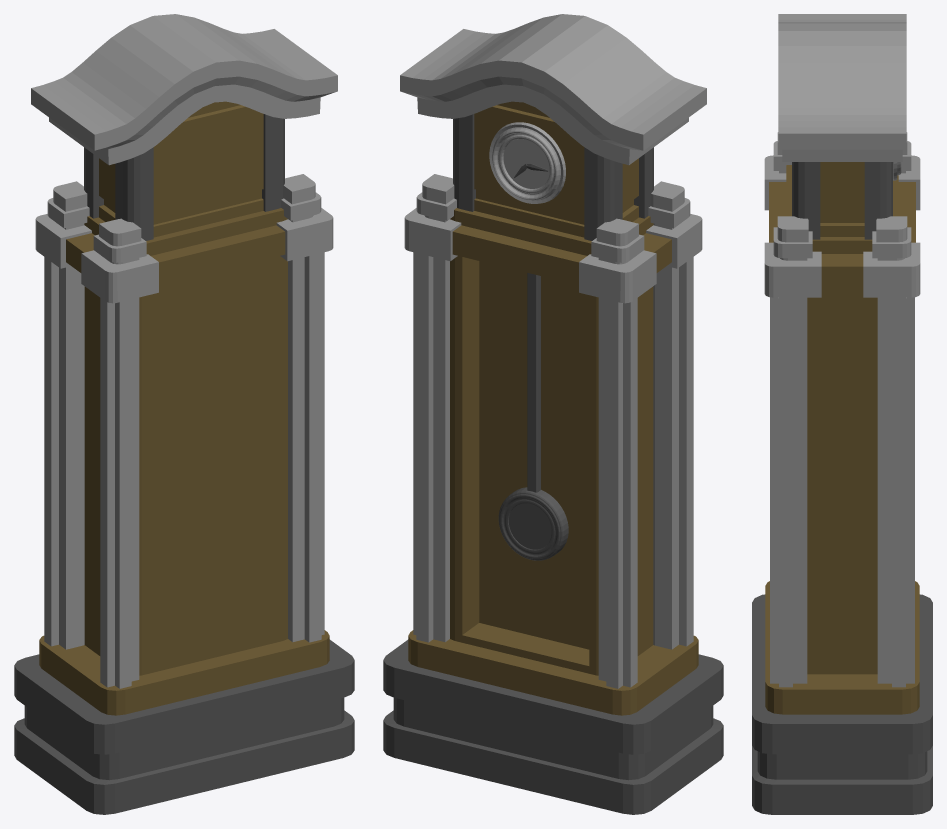
File: ceas.fbx
3 renders of one model, left to right at view 1: azimuth 30°, elevation 25°; view 2: azimuth 150°, elevation 25°; view 3: azimuth 270°, elevation 25°, orthographic.
Visible parts, largest first — view 1: Cube.059; view 2: Cube.059; view 3: Cube.059.
Part boxes in pixels (bbox=[...]): Cube.059: bbox=[14, 14, 354, 814]; Cube.059: bbox=[383, 14, 723, 814]; Cube.059: bbox=[752, 14, 932, 814].
Size of the model in its own units: 94.71 by 243 by 55.48.
